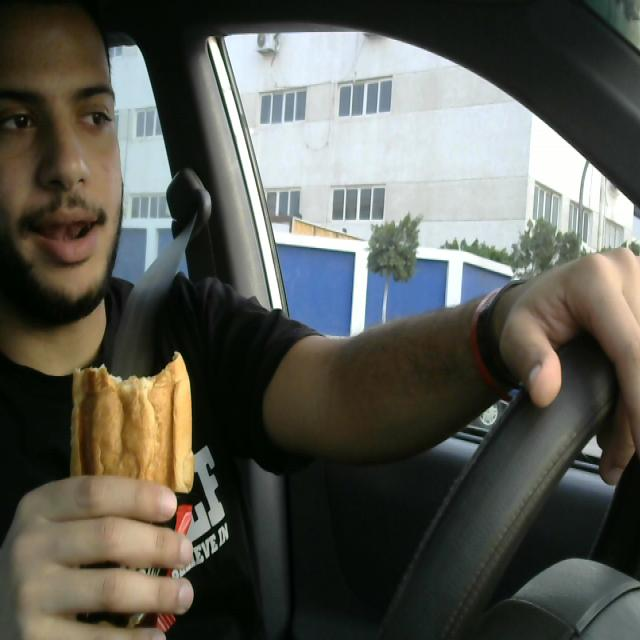eating: (64, 364, 196, 640)
